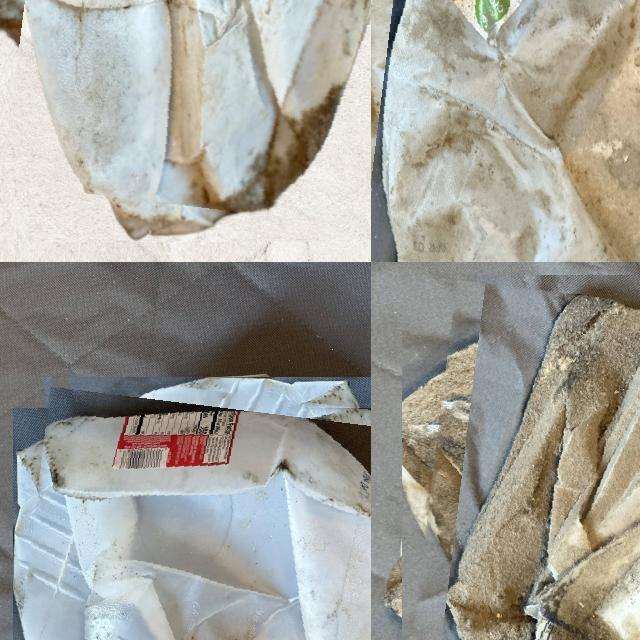milk-jug: (16, 381, 371, 640), (0, 0, 371, 222), (417, 291, 640, 640), (371, 0, 640, 262)
